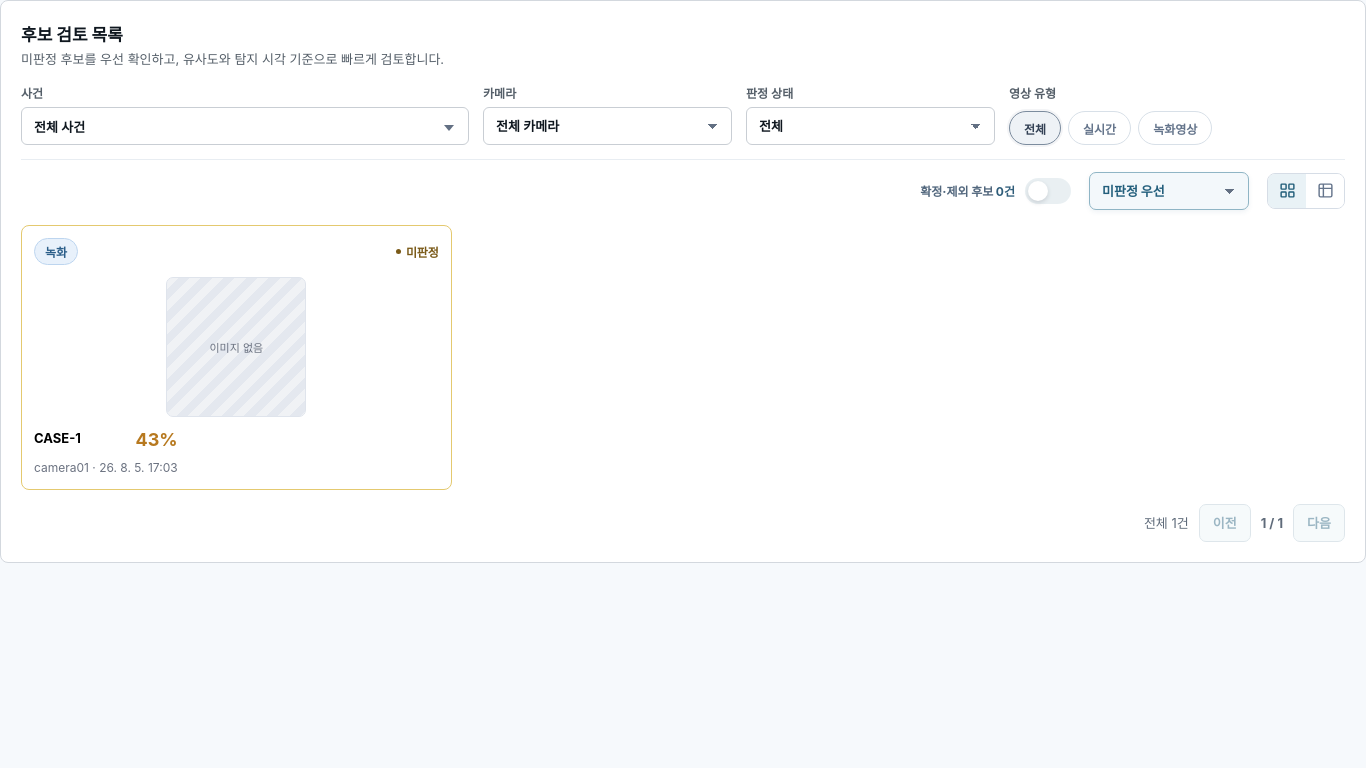
Scenario: CandidatesView › keeps a missing camera code out of the CCTV column
Click the button named "테이블 보기" at (1325, 190), box [1306,174,1344,208]
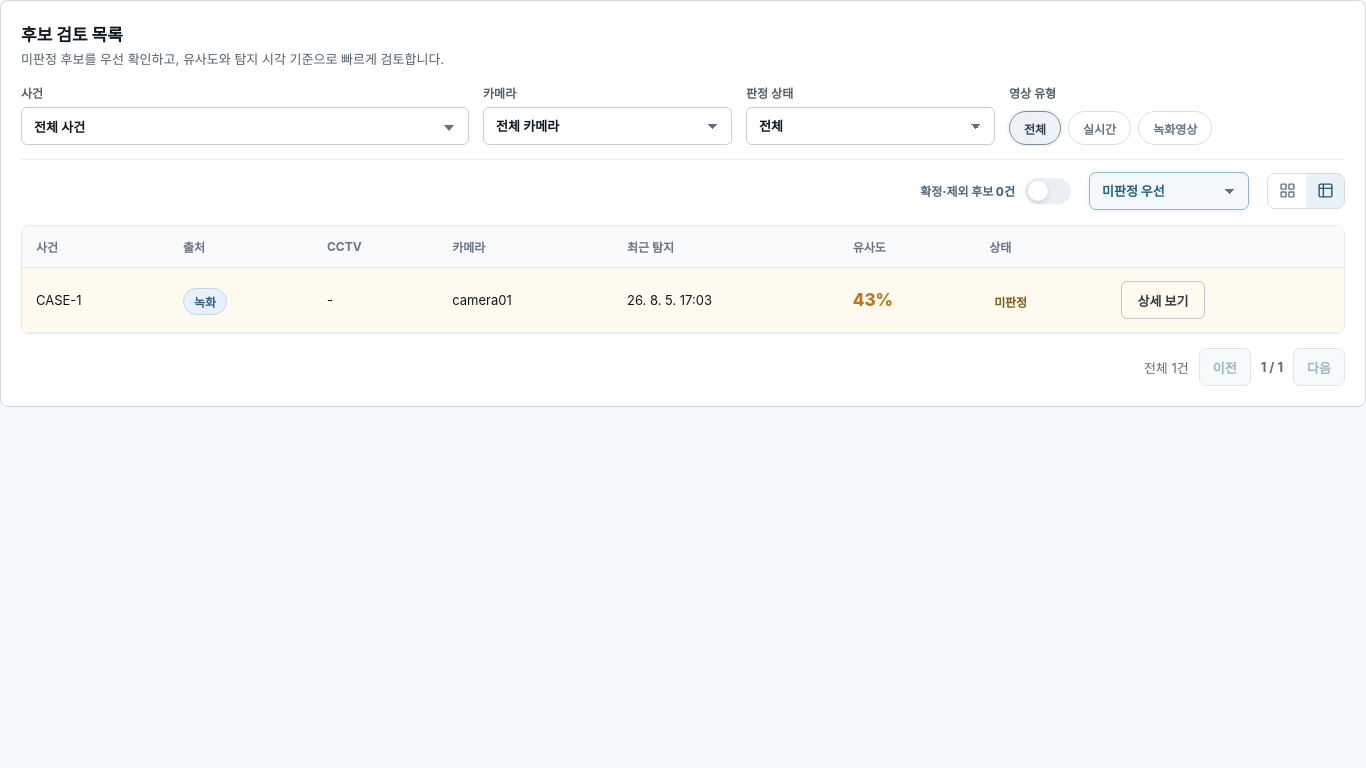
Expected: the cell "camera01" is shown, [438,268,613,332]
Now the cell "-" is shown, box [313,268,438,332]
